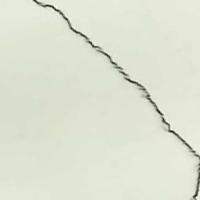crack: (35, 0, 199, 169)
